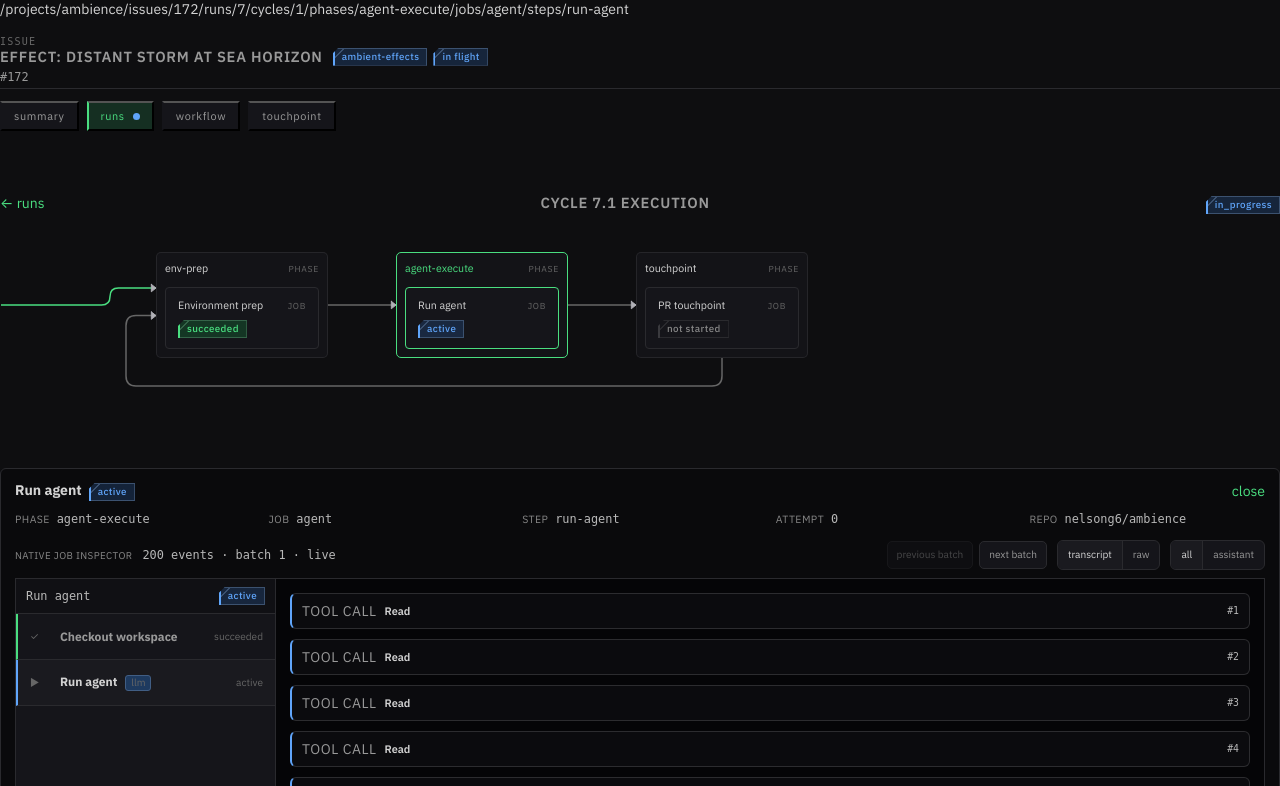
Scenario: IssueDetailView run execution graph › pages native events in fixed batches without accumulating prior rows
Check: the text "200 events · batch 1 · live" is shown, box [142,548,336,562]
Check: the text "Readable line on the second batch." is not shown
Click the button "next batch". click: [1013, 555]
box: [979,541,1047,569]
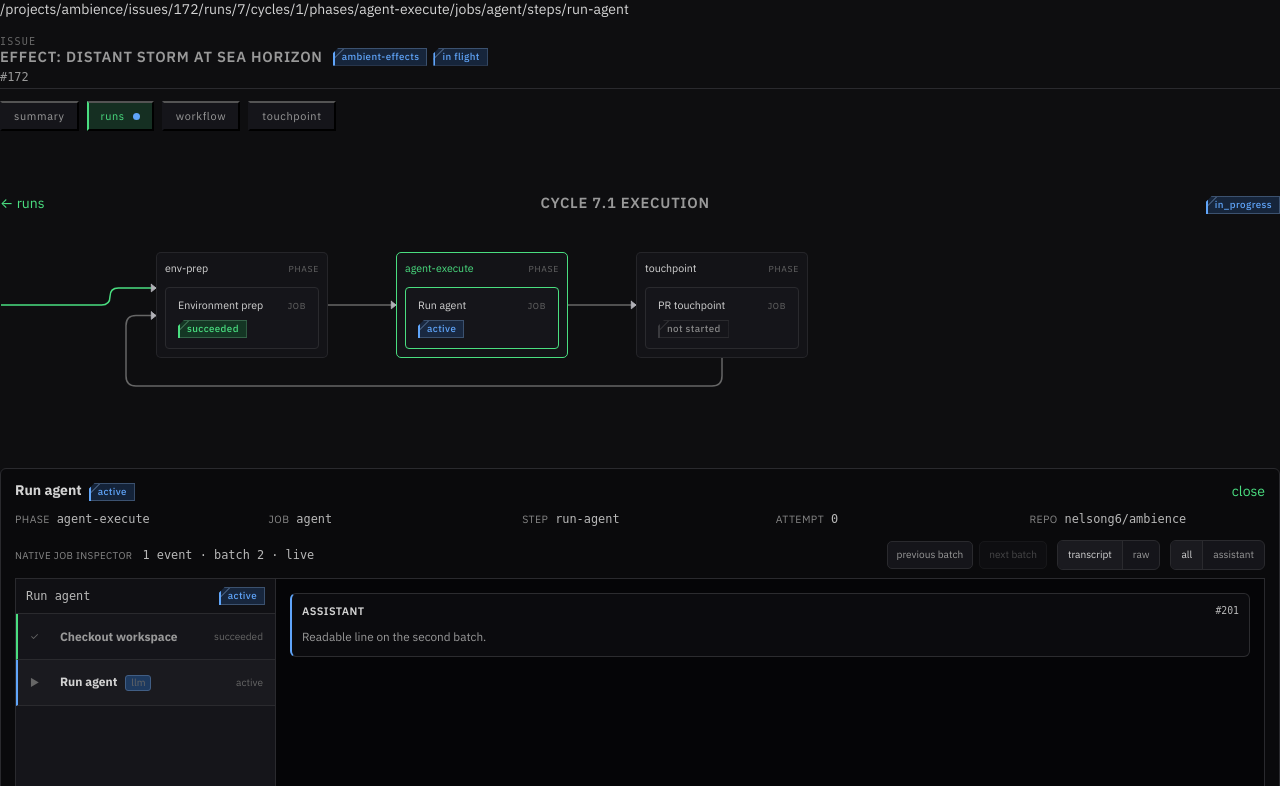
Check: the text "Readable line on the second batch." is shown, box [302,629,486,644]
Check: the text "1 event · batch 2 · live" is shown, box [142,548,314,562]
Click the button "previous batch". click: [930, 555]
box: [887,541,973,569]
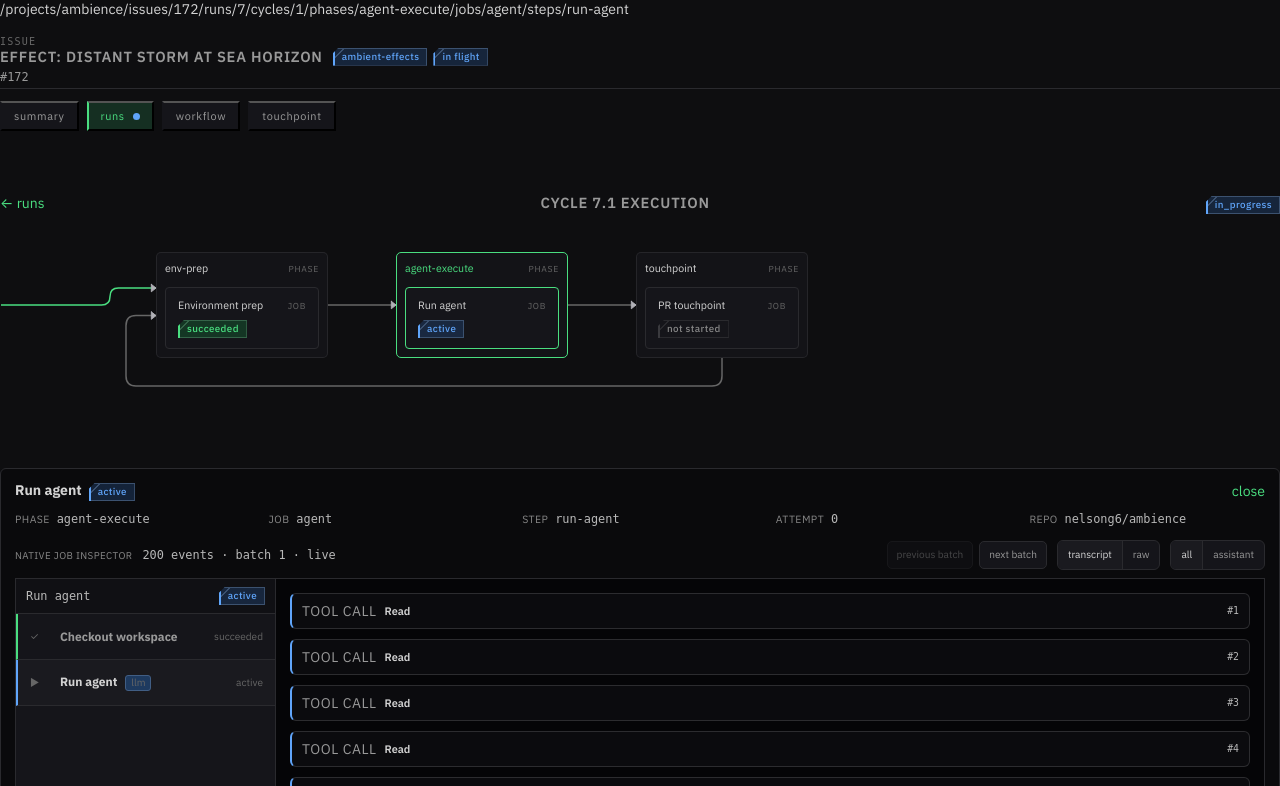
Check: the text "Readable line on the second batch." is gone
Check: the text "200 events · batch 1 · live" is shown, box [142,548,336,562]
